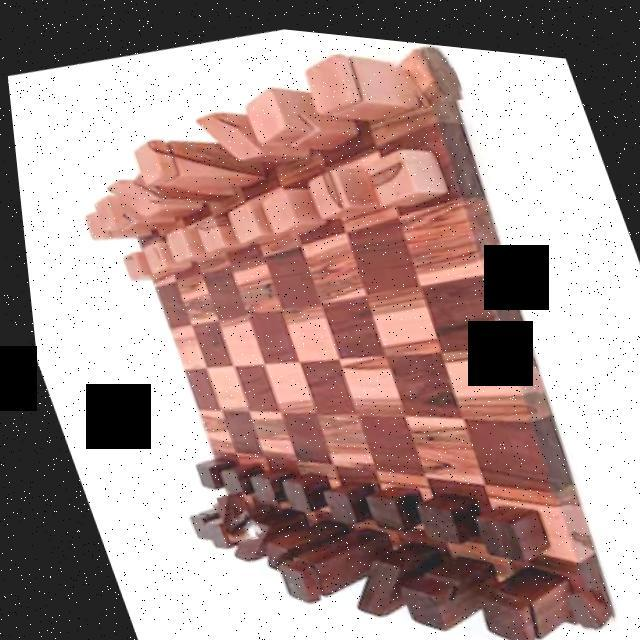chess-table-corners: (381, 32, 465, 104), (552, 571, 607, 628), (202, 483, 250, 542), (101, 183, 148, 233)
